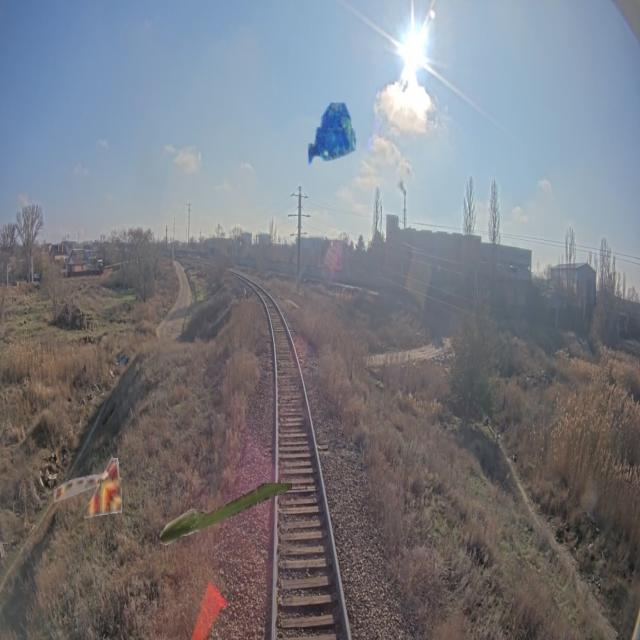floating object: (159, 483, 294, 547), (54, 454, 127, 518)
plastic bag: (307, 101, 359, 166)
